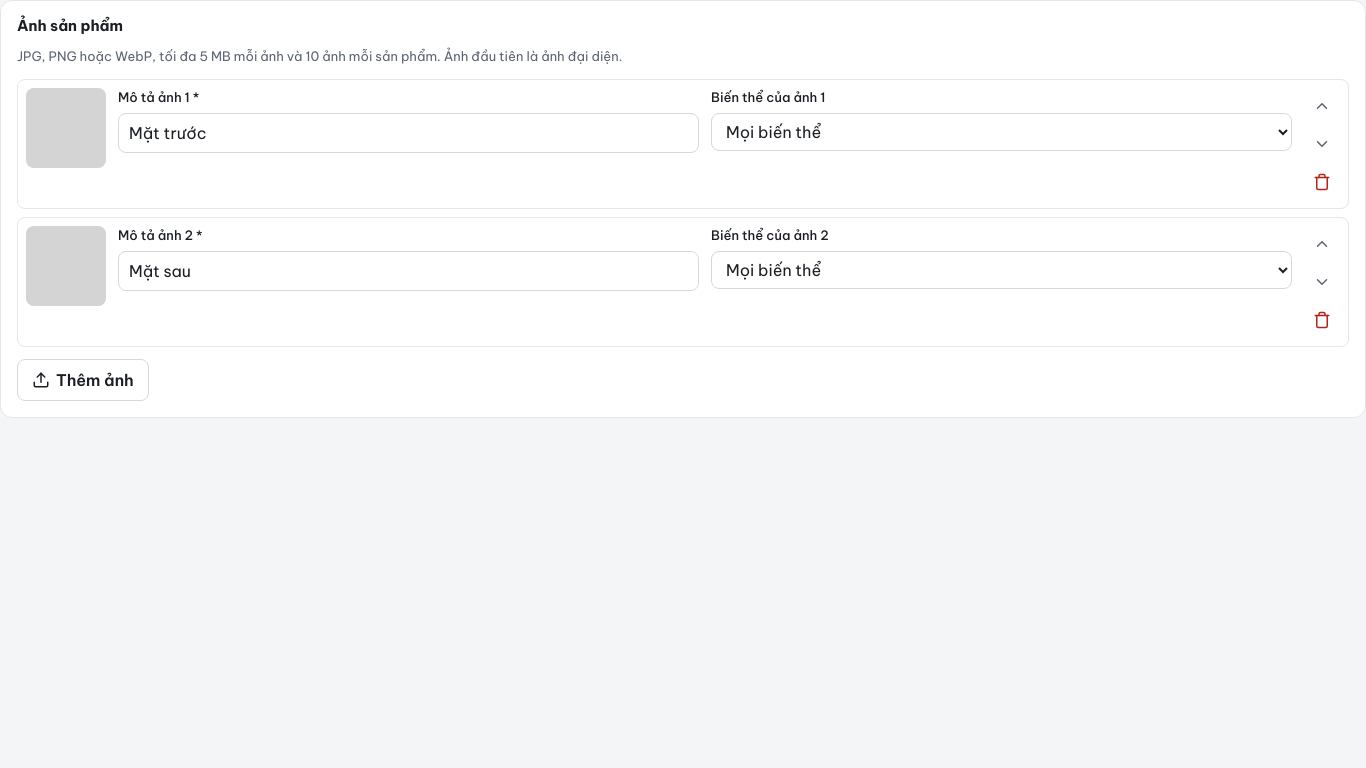
Scenario: ImageManager › bỏ ảnh mở hộp thoại xác nhận và chưa đổi danh sách
This screenshot has width=1366, height=768.
Click the button named "Bỏ ảnh 1": (1322, 182) [1304,164,1340,200]
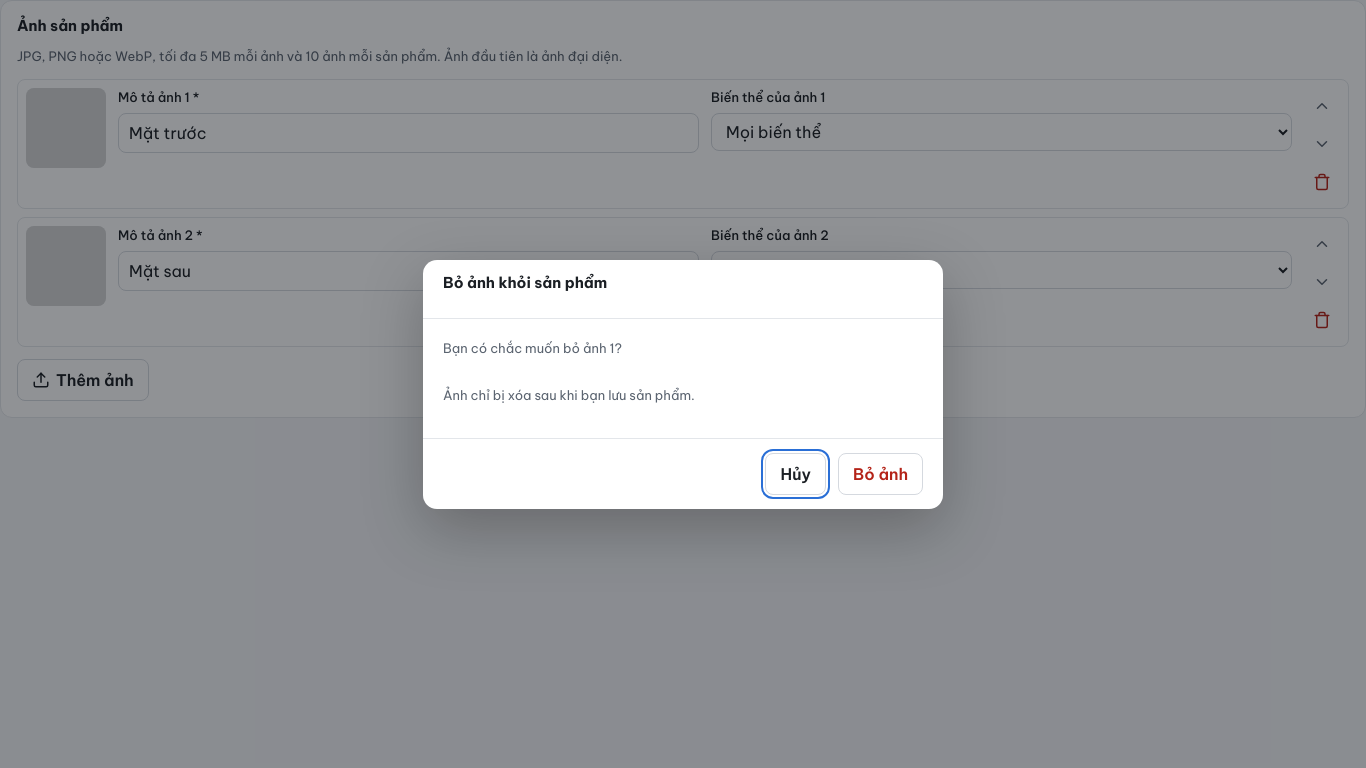
Result: the dialog is shown at [423,260,943,508]
Result: the dialog shows "Ảnh chỉ bị xóa sau khi bạn lưu sản phẩm." at [443,387,695,403]
